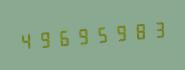eight: (131, 16, 149, 44)
five: (93, 19, 111, 48)
four: (17, 26, 35, 54)
nine: (36, 24, 54, 53), (74, 21, 92, 49), (112, 18, 130, 46)
six: (55, 23, 73, 51)
three: (150, 14, 168, 43)
